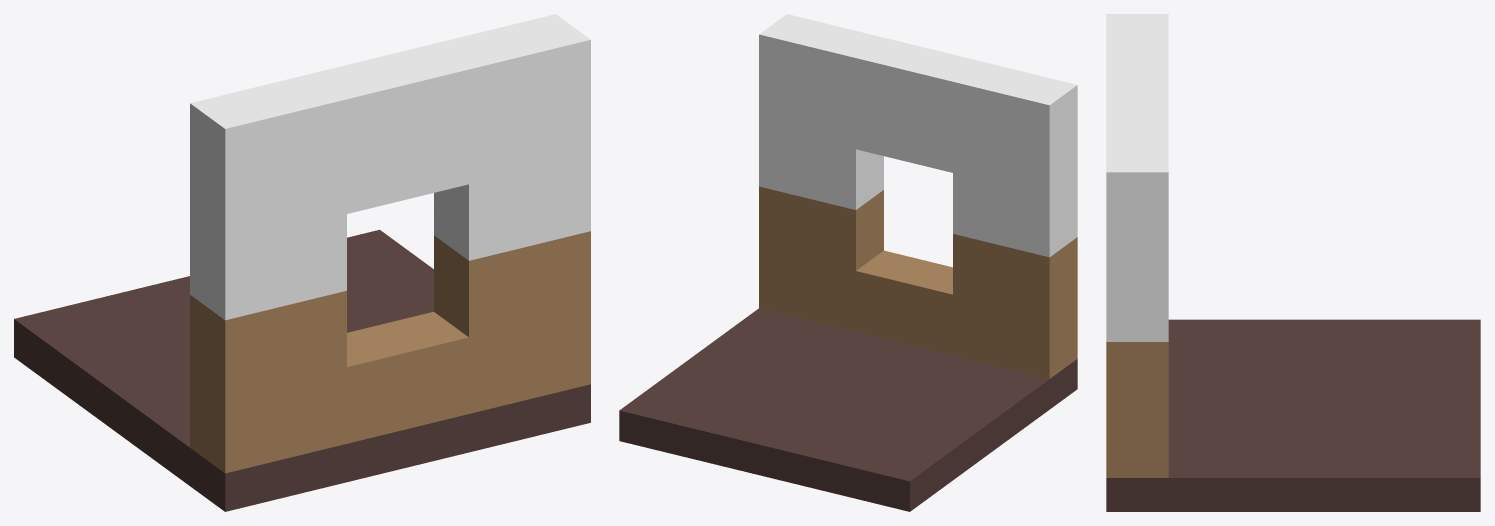
File: wall_window.FBX
3 views of the same model, side by side, from view 1: azimuth 30°, elevation 25°; view 2: azimuth 150°, elevation 25°; view 3: azimuth 270°, elevation 25° (orthographic). The views are drawn at different scales.
Parts seen in each view (by area): view 1: Object253; view 2: Object253; view 3: Object253.
Part boxes in pixels (x1,y1,x2,y2): Object253: (14, 14, 590, 511); Object253: (619, 14, 1077, 511); Object253: (1106, 14, 1480, 511).
Bounding box in the file's own units: 100 × 100 × 100.
